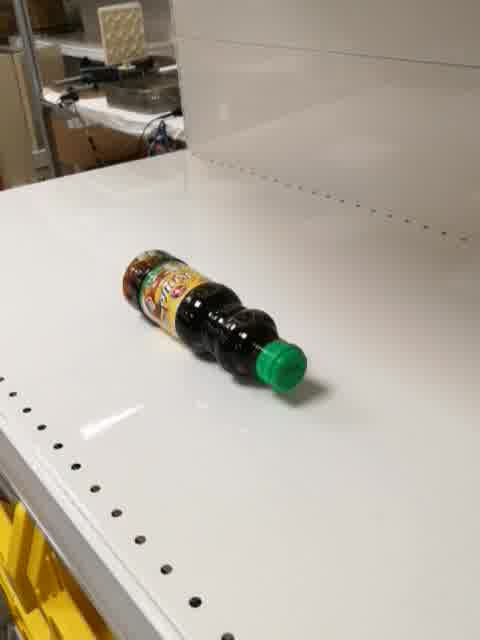cookingoil: (119, 247, 311, 399)
